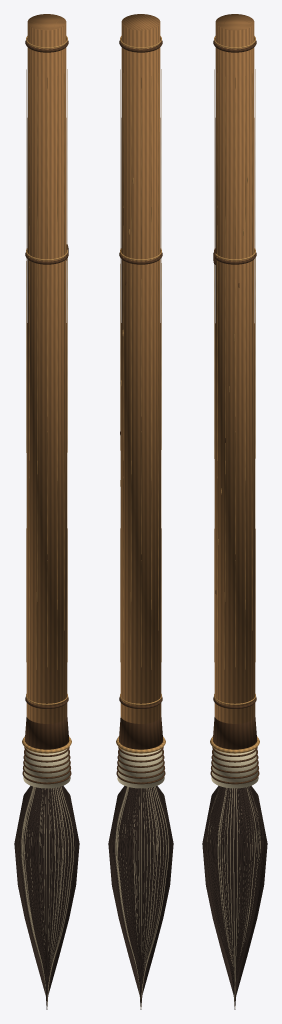
The model's file is brush.glb.
3 views of the same model, side by side, from view 1: azimuth 90°, elevation 25°; view 2: azimuth 210°, elevation 25°; view 3: azimuth 270°, elevation 25° (orthographic).
Parts seen in each view (by area): view 1: 细长竹管, 兰蕊毫束芯, 捆扎毫根, 竹口套接, 竹纤维浅纹.005, 竹纤维浅纹.007, 竹纤维浅纹.003, 竹纤维浅纹.009, 竹纤维浅纹.008, 竹纤维浅纹.006, 竹纤维浅纹.004, 一束笔锋中的单根毫.305 (+34 smaller); view 2: 细长竹管, 兰蕊毫束芯, 捆扎毫根, 竹口套接, 竹纤维浅纹.001, 竹纤维浅纹.003, 竹纤维浅纹.005, 竹纤维浅纹.011, 竹纤维浅纹.004, 竹纤维浅纹.002, 竹纤维浅纹, 一束笔锋中的单根毫.343 (+34 smaller); view 3: 细长竹管, 兰蕊毫束芯, 捆扎毫根, 竹口套接, 竹纤维浅纹.011, 竹纤维浅纹.001, 竹纤维浅纹.003, 竹纤维浅纹.009, 竹纤维浅纹.002, 竹纤维浅纹, 竹纤维浅纹.010, 一束笔锋中的单根毫.322 (+32 smaller).
Part boxes in pixels (left/top/right/bottom): 细长竹管: left=26, top=14, right=67, bottom=723; 兰蕊毫束芯: left=14, top=785, right=79, bottom=994; 捆扎毫根: left=23, top=749, right=70, bottom=788; 竹口套接: left=24, top=717, right=69, bottom=749; 竹纤维浅纹.005: left=36, top=77, right=37, bottom=669; 竹纤维浅纹.007: left=57, top=76, right=57, bottom=669; 竹纤维浅纹.003: left=26, top=69, right=26, bottom=661; 竹纤维浅纹.009: left=67, top=69, right=67, bottom=661; 竹纤维浅纹.008: left=64, top=73, right=64, bottom=630; 竹纤维浅纹.006: left=47, top=78, right=47, bottom=666; 竹纤维浅纹.004: left=29, top=73, right=29, bottom=642; 一束笔锋中的单根毫.305: left=46, top=789, right=47, bottom=977; 细长竹管: left=120, top=14, right=161, bottom=723; 兰蕊毫束芯: left=108, top=785, right=173, bottom=994; 捆扎毫根: left=117, top=749, right=164, bottom=788; 竹口套接: left=119, top=717, right=163, bottom=749; 竹纤维浅纹.001: left=130, top=77, right=131, bottom=669; 竹纤维浅纹.003: left=151, top=76, right=151, bottom=669; 竹纤维浅纹.005: left=161, top=69, right=161, bottom=661; 竹纤维浅纹.011: left=120, top=69, right=120, bottom=661; 竹纤维浅纹.004: left=158, top=73, right=158, bottom=630; 竹纤维浅纹.002: left=141, top=78, right=141, bottom=666; 竹纤维浅纹: left=123, top=73, right=123, bottom=642; 一束笔锋中的单根毫.343: left=117, top=787, right=139, bottom=992; 细长竹管: left=214, top=14, right=255, bottom=723; 兰蕊毫束芯: left=202, top=785, right=267, bottom=994; 捆扎毫根: left=211, top=749, right=258, bottom=788; 竹口套接: left=212, top=717, right=257, bottom=749; 竹纤维浅纹.011: left=224, top=77, right=225, bottom=669; 竹纤维浅纹.001: left=245, top=76, right=245, bottom=669; 竹纤维浅纹.003: left=255, top=69, right=255, bottom=661; 竹纤维浅纹.009: left=214, top=69, right=214, bottom=661; 竹纤维浅纹.002: left=252, top=73, right=252, bottom=630; 竹纤维浅纹: left=235, top=78, right=235, bottom=666; 竹纤维浅纹.010: left=217, top=73, right=217, bottom=642; 一束笔锋中的单根毫.322: left=233, top=788, right=234, bottom=980.
Size of the model in its own units: 0.29 by 4.84 by 0.29.
6 materials, 5 textured.
